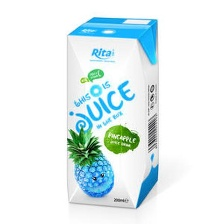carton: (59, 12, 172, 213)
